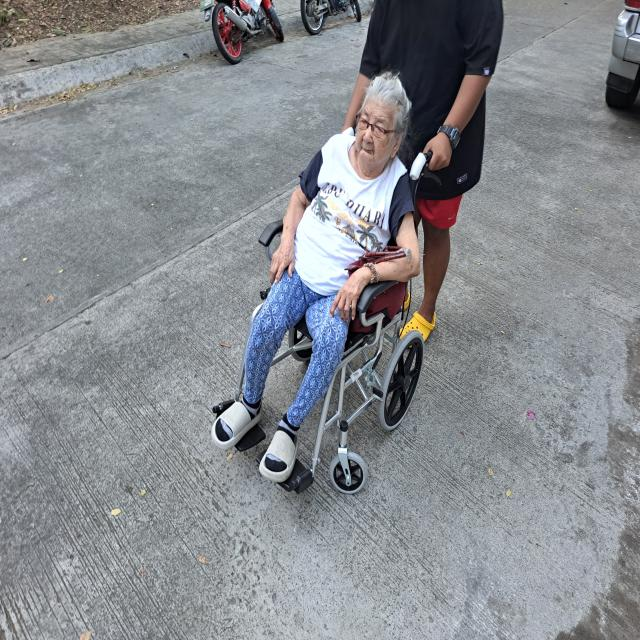wheelchairs: (215, 148, 433, 510)
